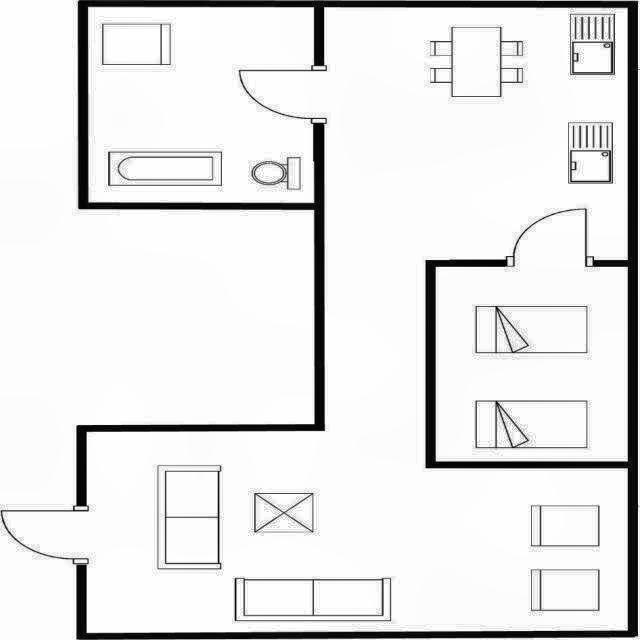room: (84, 7, 629, 631), (90, 7, 314, 202), (436, 267, 627, 462)
